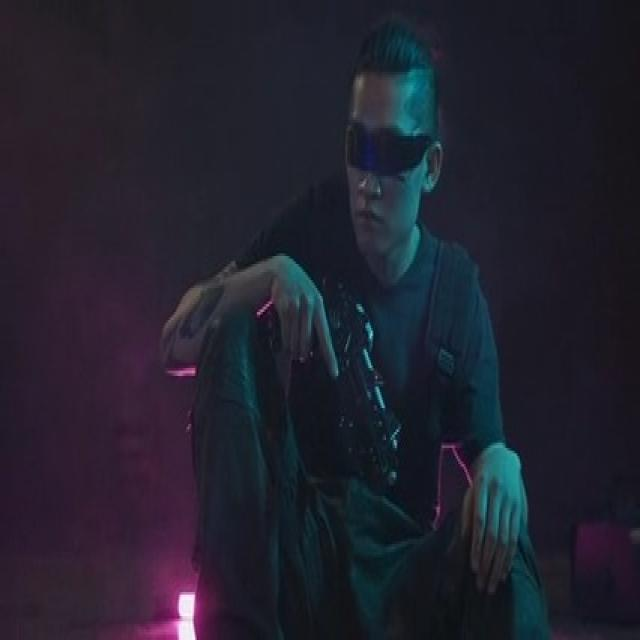Gun_Holder: (283, 274, 409, 496)
Person: (151, 19, 547, 640)
